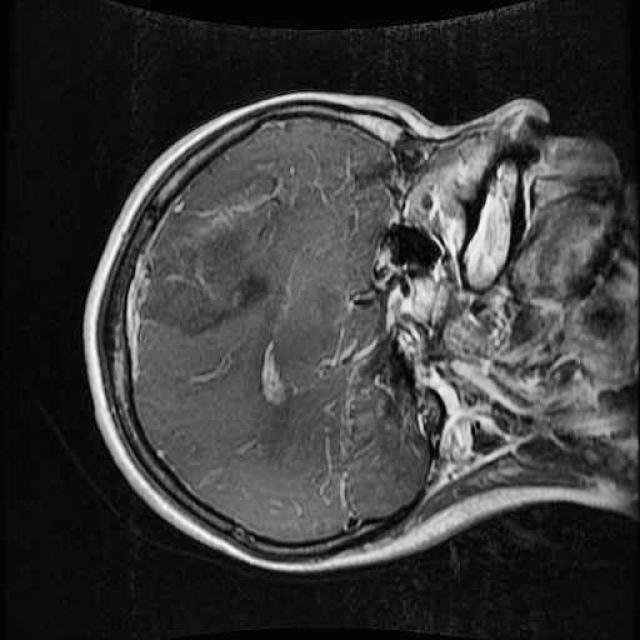Non-Tumor: (132, 198, 280, 351)
